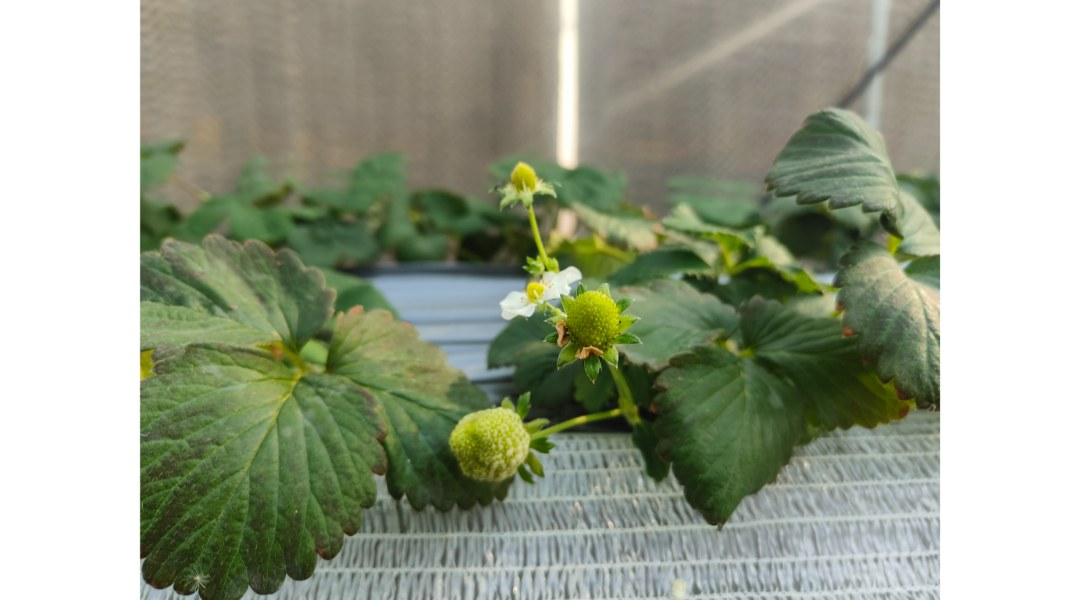berry: (440, 393, 545, 486), (553, 286, 638, 377), (489, 155, 563, 215)
flower: (502, 263, 581, 327)
strain: (529, 402, 627, 439), (605, 364, 647, 430), (520, 196, 549, 252)
